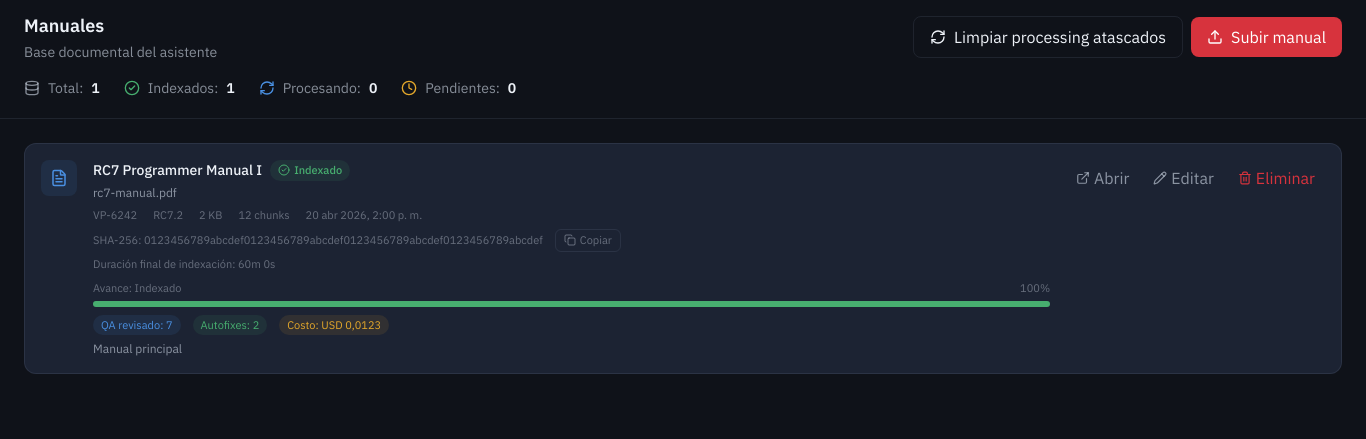
ManualsPanel › runs admin cleanup for stale processing manuals
Expected: the heading "RC7 Programmer Manual I" is shown, x1=93 y1=160 x2=262 y2=180
Click the button "Limpiar processing atascados" at (1048, 37), box x1=913 y1=16 x2=1183 y2=58
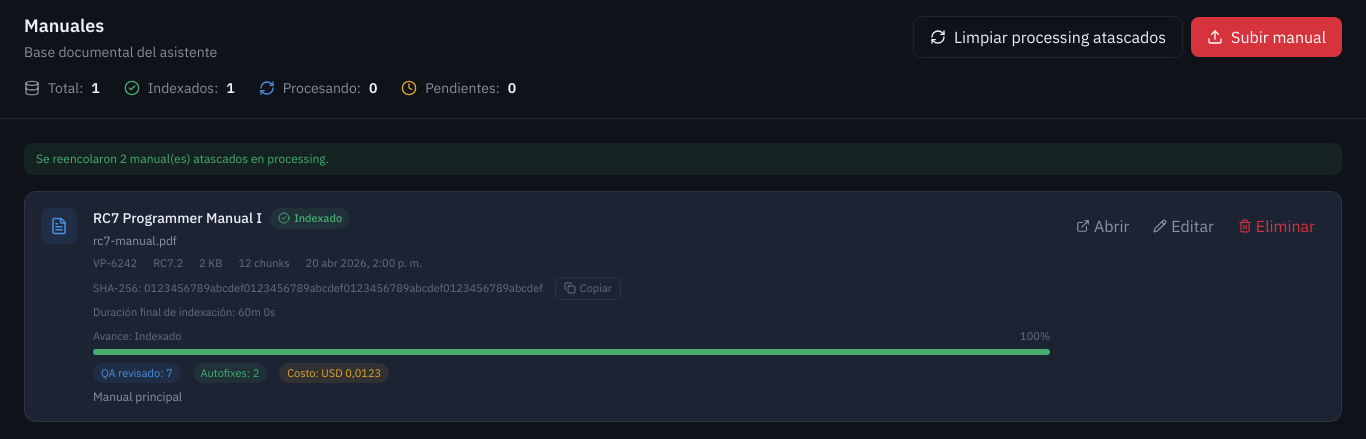
Now the text "Se reencolaron 2 manual(es) atascados en processing." is shown, box x1=24 y1=143 x2=1342 y2=175
